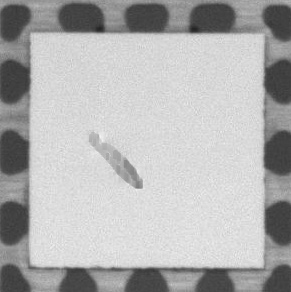DIE_INK: (80, 125, 149, 196)
